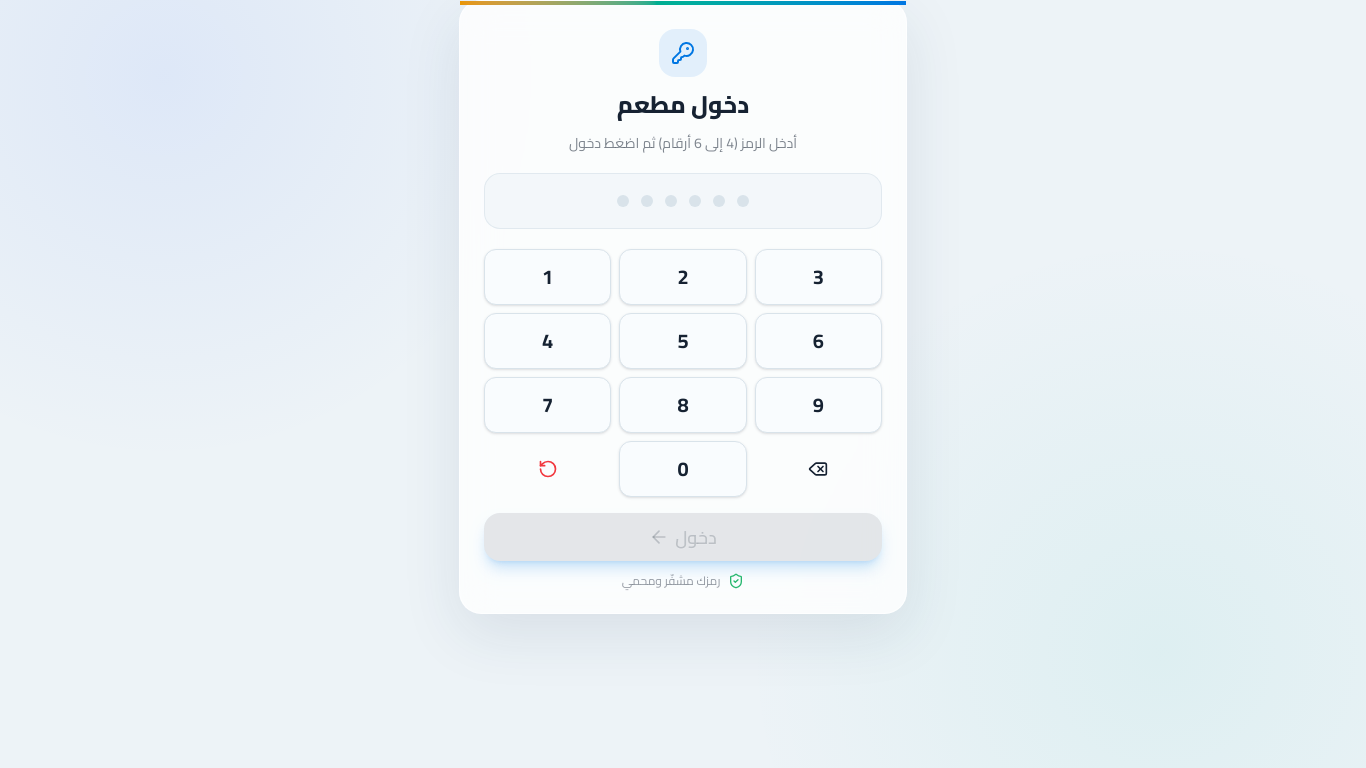
Scenario: PinPad › shows an error and clears the PIN on failure
Click the button "9". click: click(818, 405)
box: [755,377,882,433]
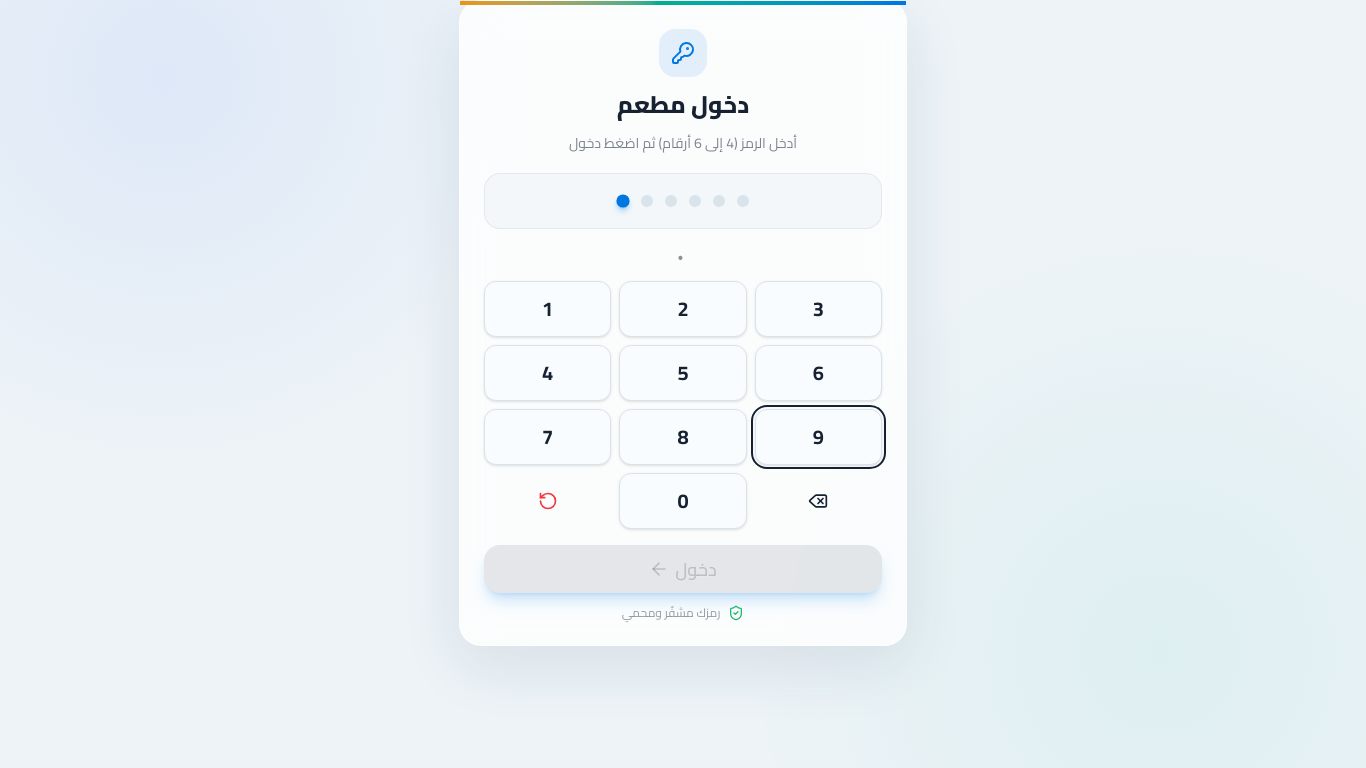
Click the button "9". click: click(818, 437)
box: [755,409,882,465]
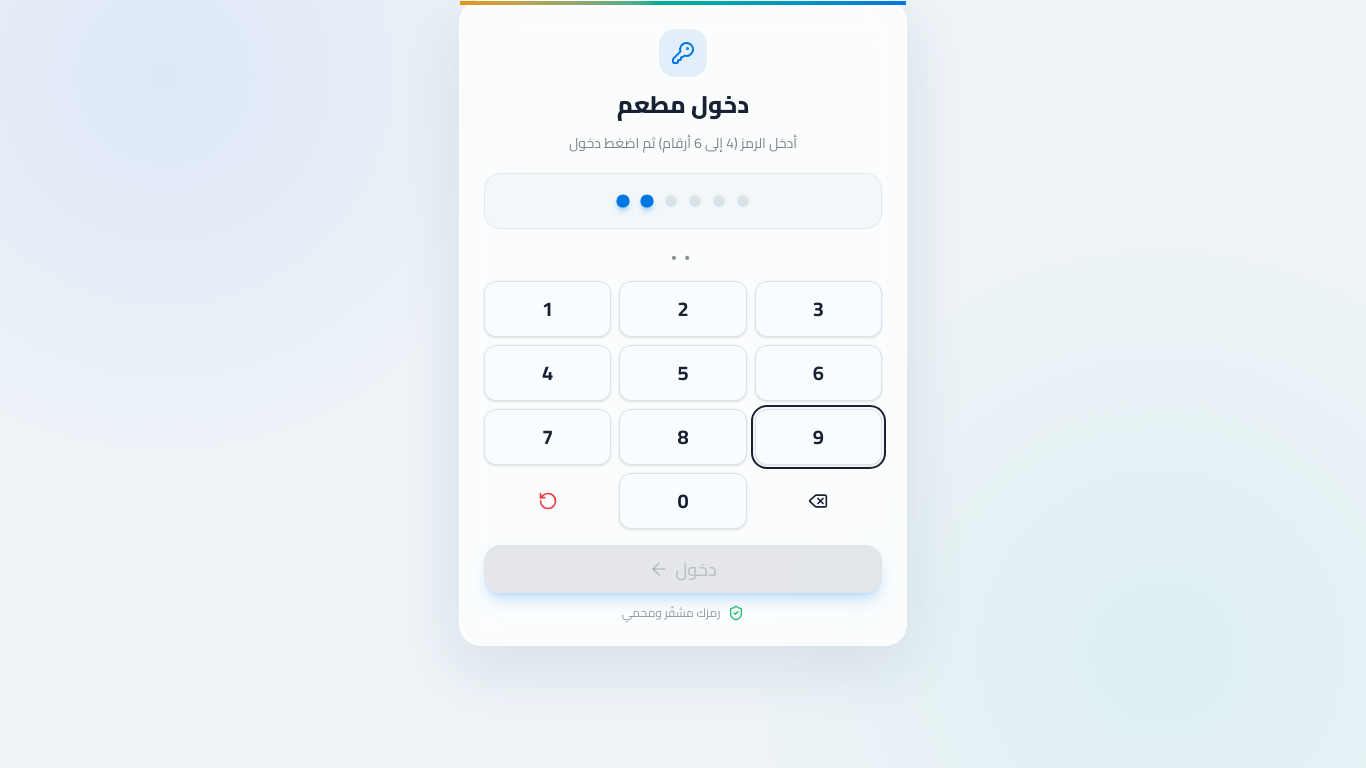
Click the button "9". click: click(818, 437)
box: [755,409,882,465]
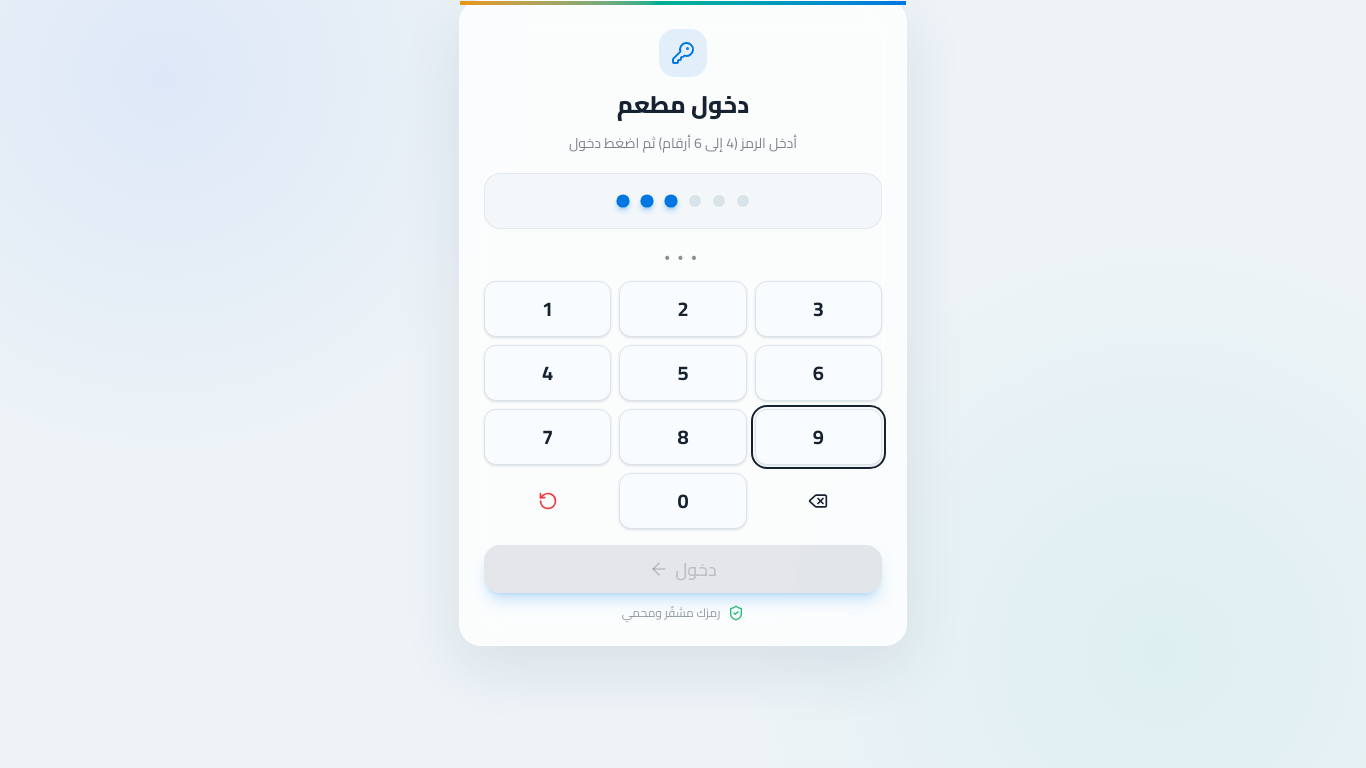
Click the button "9". click: click(818, 437)
box: [755,409,882,465]
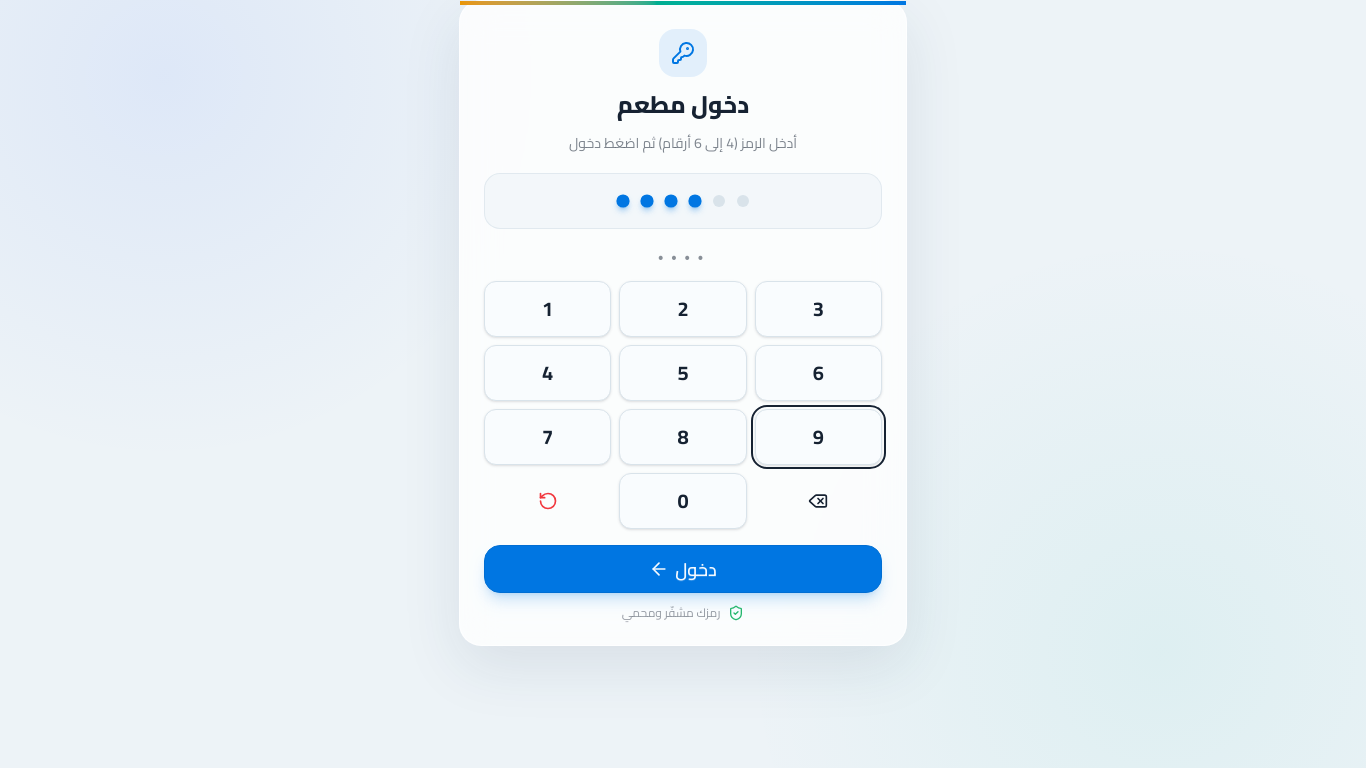
Click the button "دخول". click: click(683, 569)
box: [484,545,882,593]
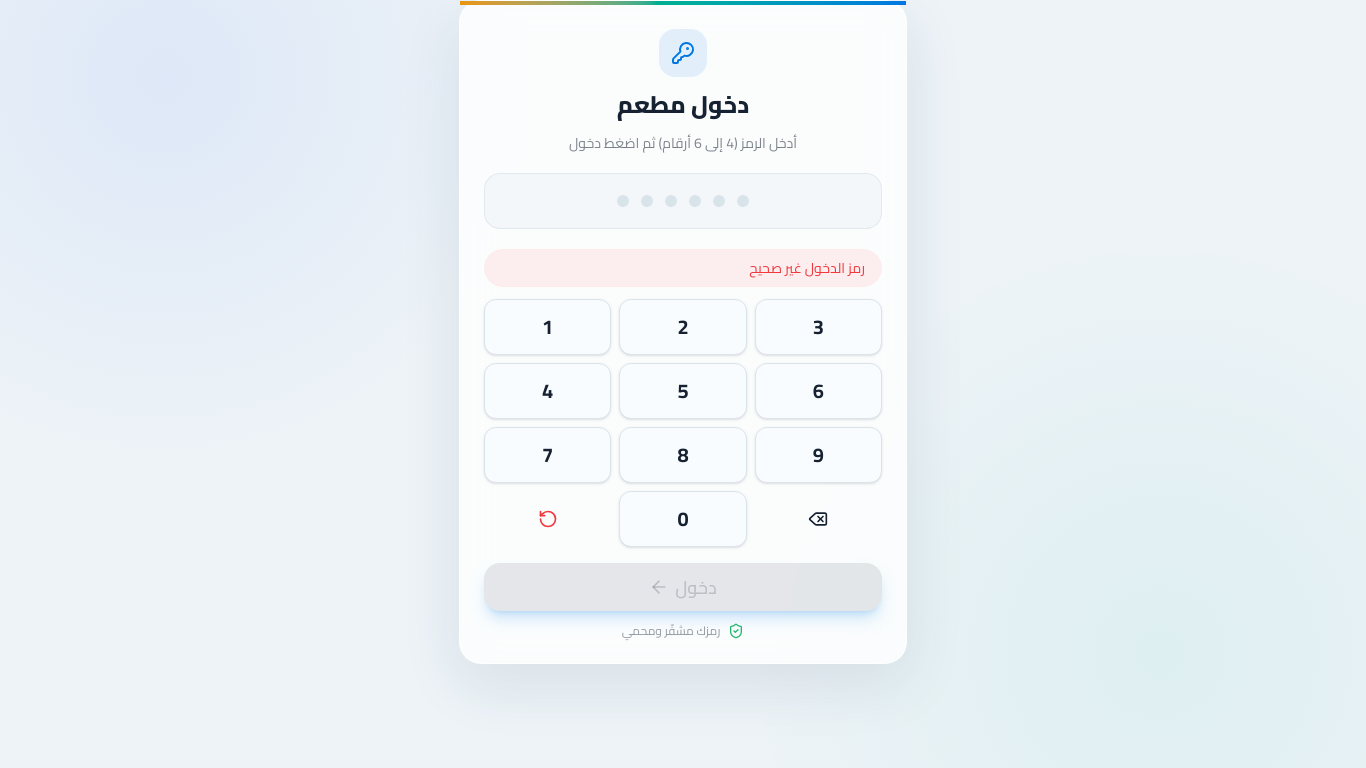
Now the message reads "رمز الدخول غير صحيح", box [749,255,865,281]
